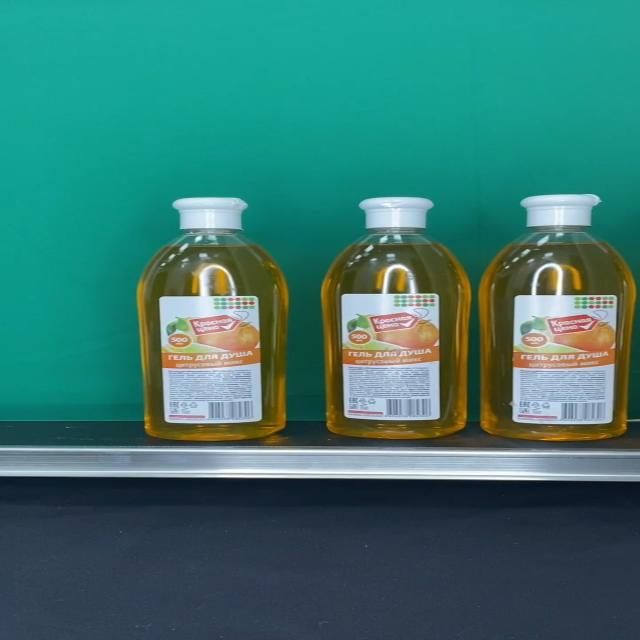Bottle: (478, 193, 638, 440), (138, 197, 288, 441), (322, 197, 472, 439)
Cap: (520, 193, 602, 227), (357, 197, 435, 230), (172, 197, 249, 230)
